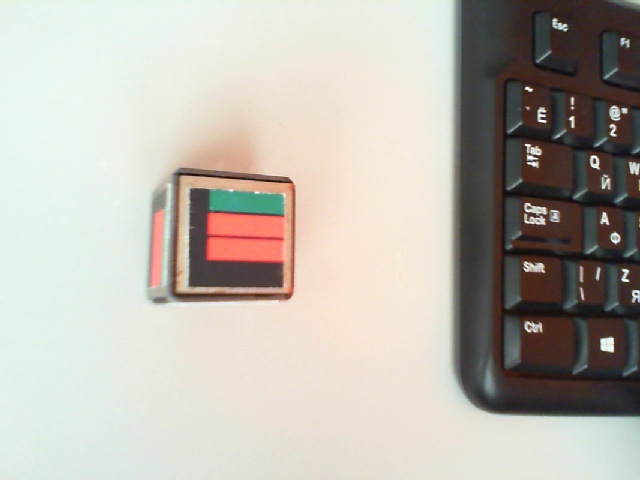square: (189, 188, 284, 287)
